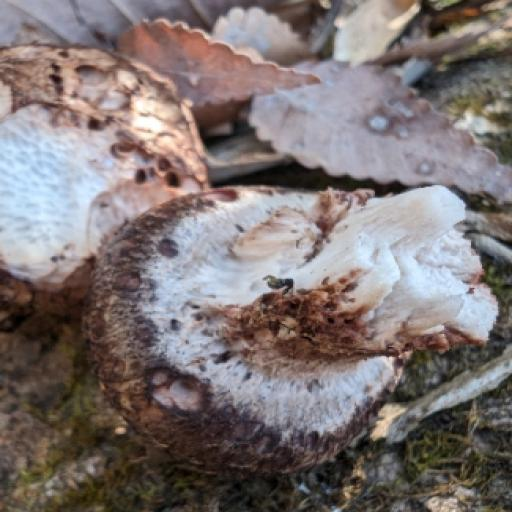Shiitake Mushroom: (76, 143, 507, 495)
